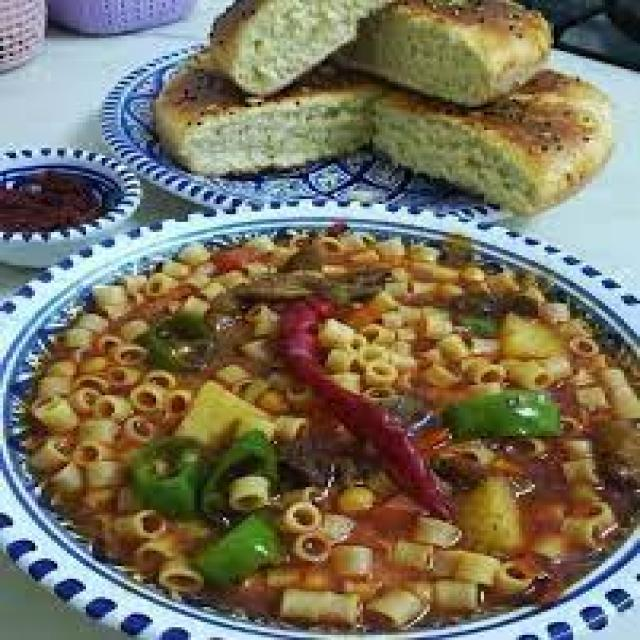Pasta: (31, 242, 635, 625)
